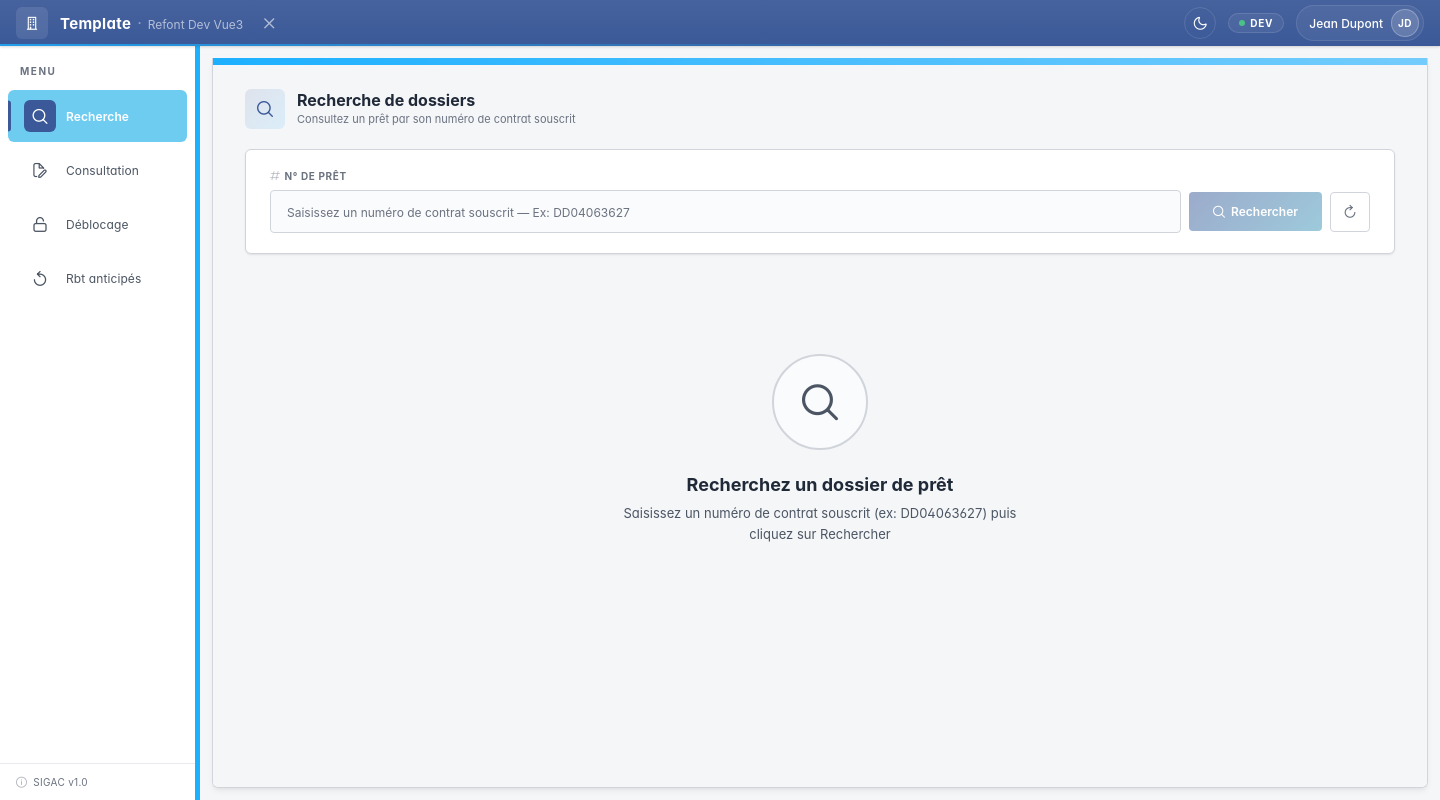
Test: Sidebar - Navigation entre sections › Retour à Recherche › devrait ré-afficher la vue Recherche après retour
Click the element with test id "deblocage". click: (81, 225)
box: [33, 217, 129, 232]
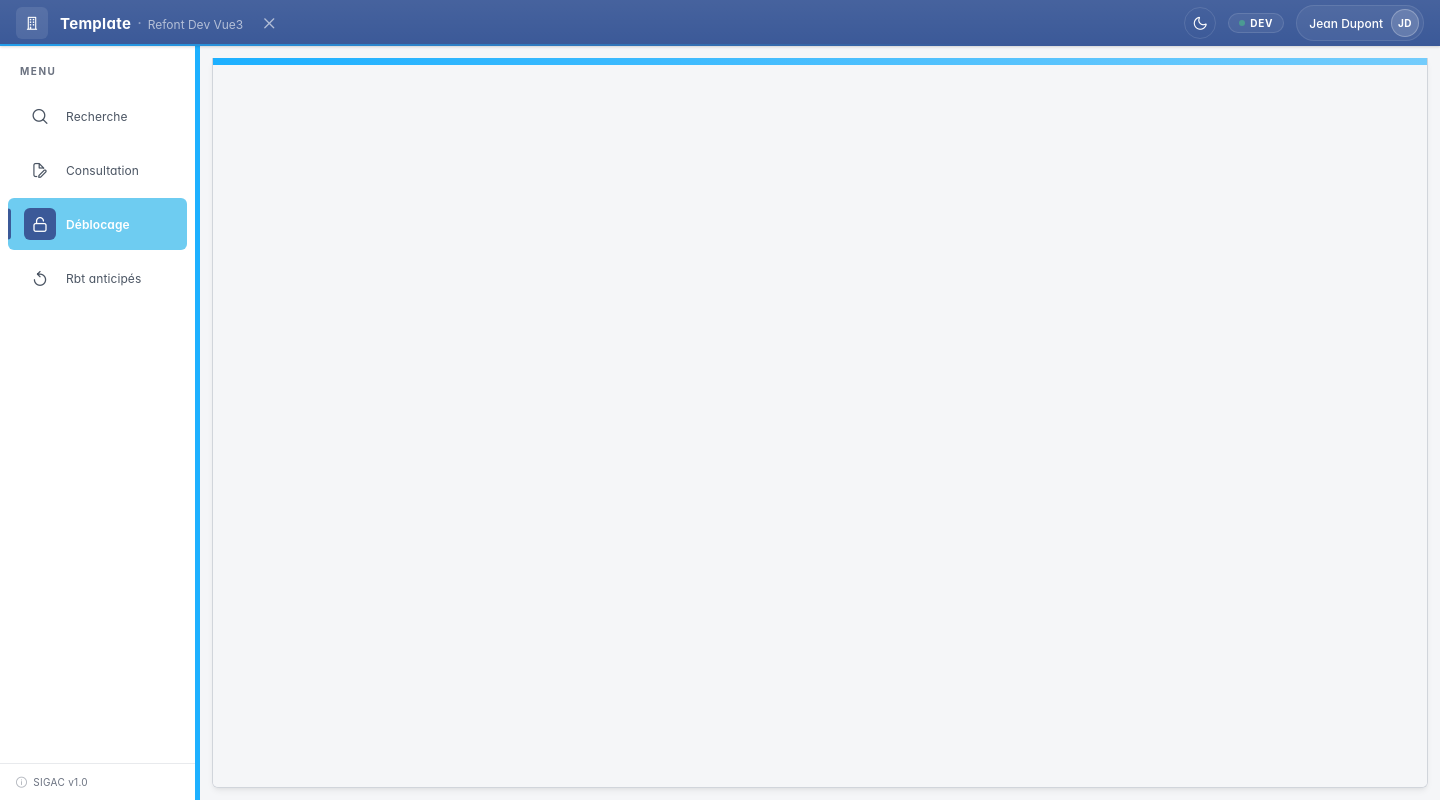
Click the element with test id "recherche". click: (81, 117)
box: [33, 109, 128, 124]
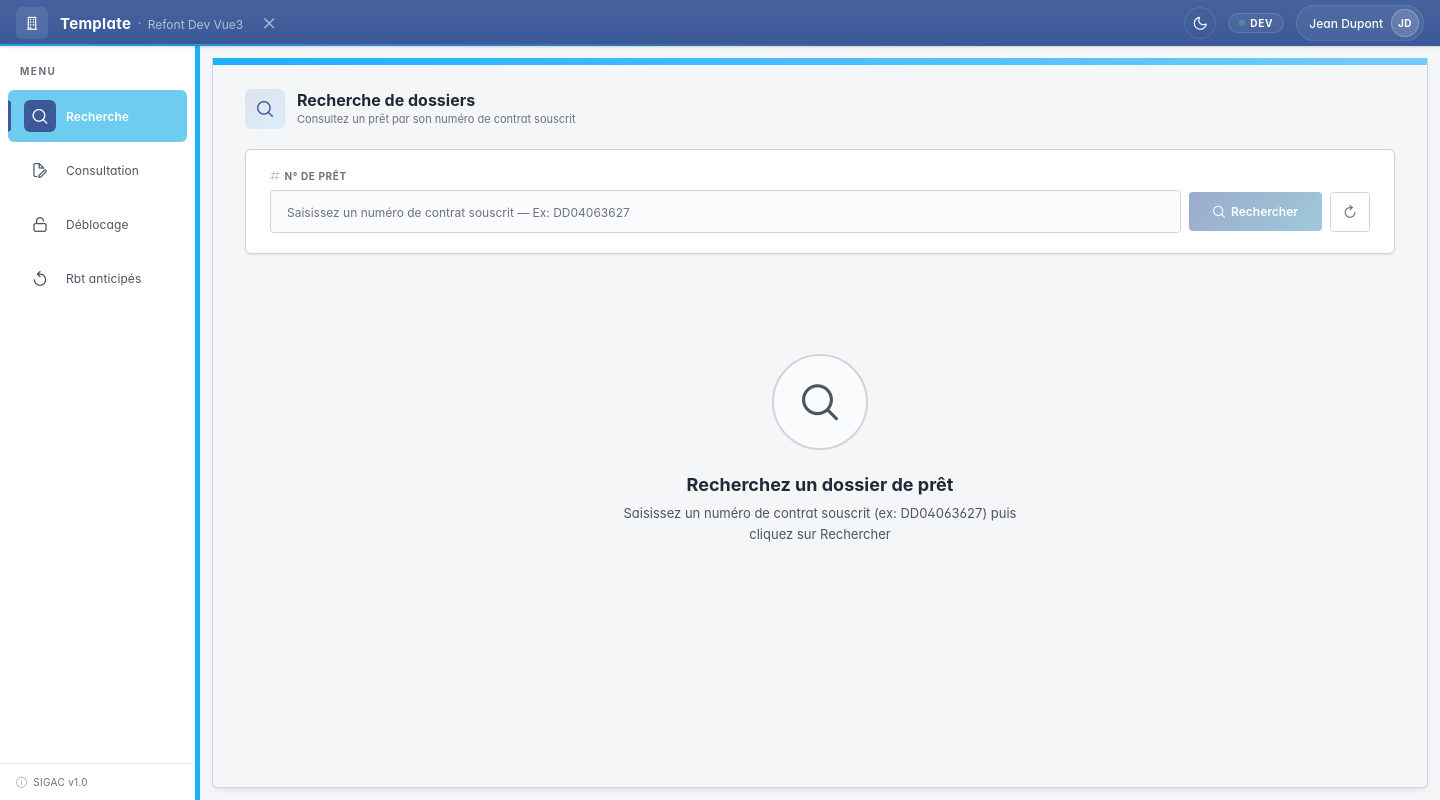
Now the element with test id "recherche-view" is shown, box [245, 89, 1395, 625]
